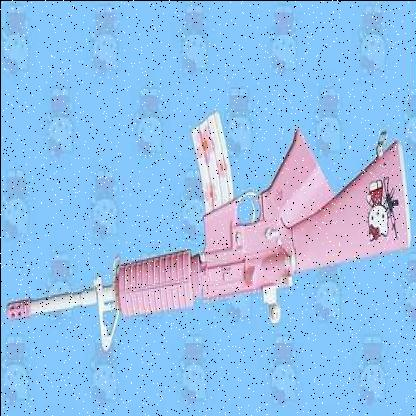rifle: (3, 79, 412, 365)
